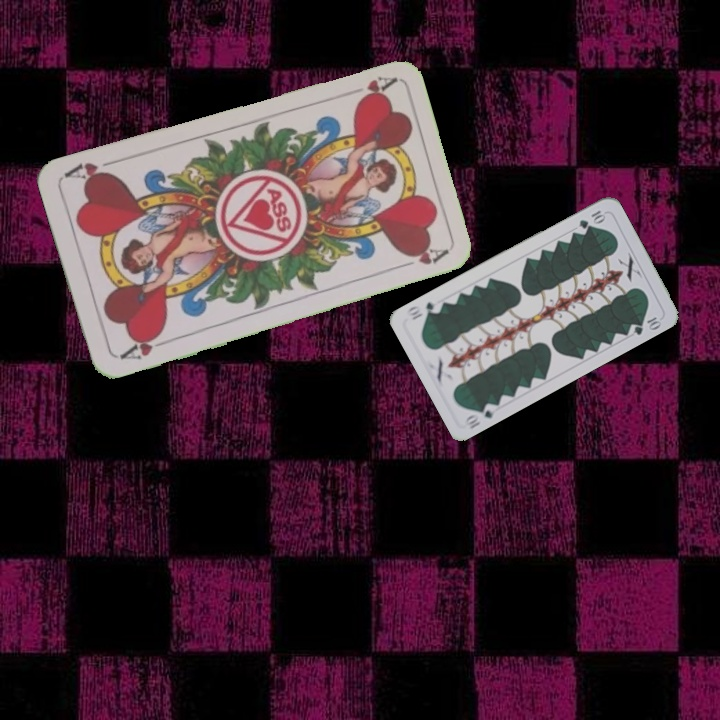G10: (462, 399, 500, 431), (575, 206, 608, 232)
HA: (115, 328, 171, 362), (352, 72, 397, 106)
